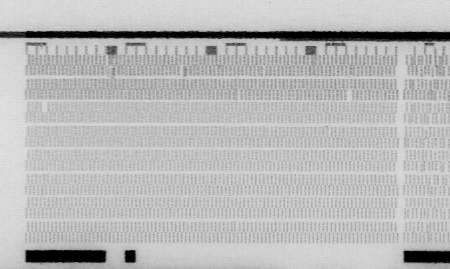Broken hole: (39, 101, 50, 115), (344, 88, 355, 101)
Oblique printing: (405, 52, 450, 243), (102, 55, 119, 80), (177, 64, 192, 78), (232, 88, 245, 102), (257, 64, 270, 78)
